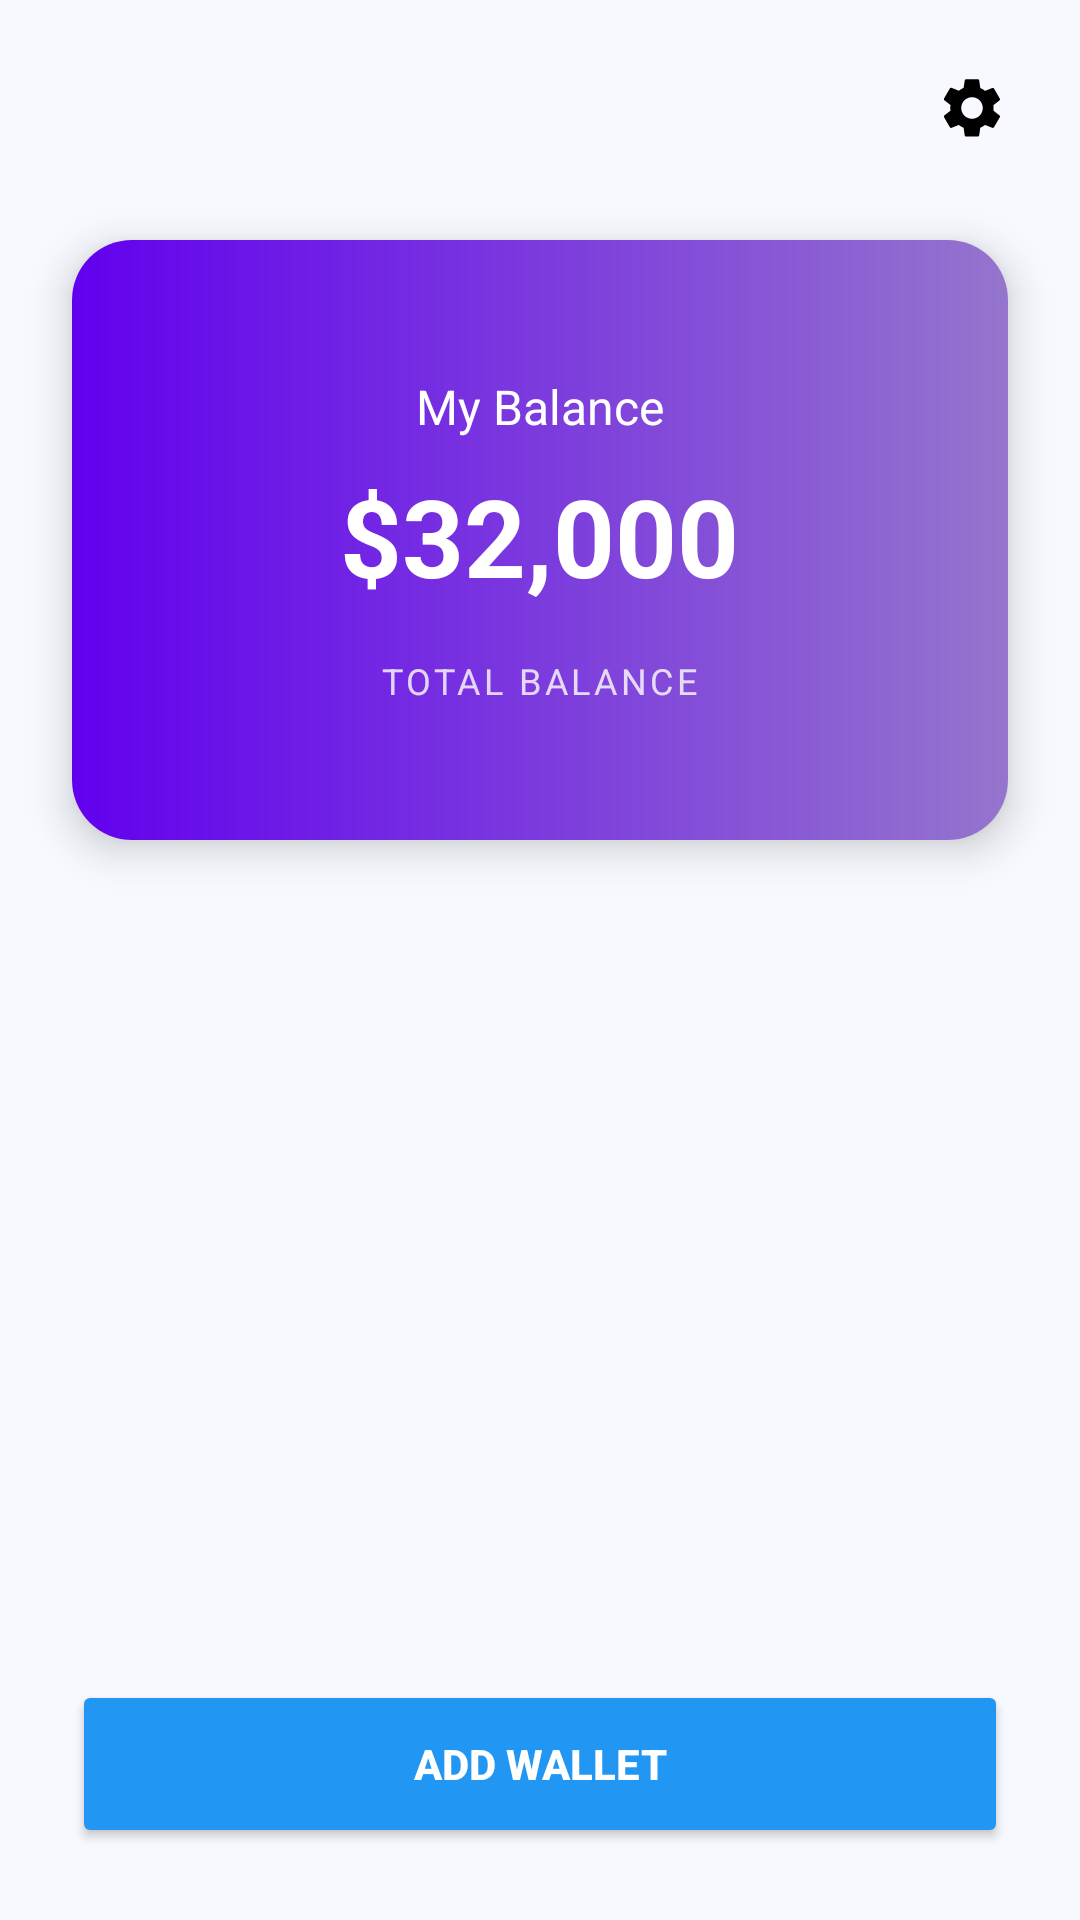

Icon click points for this 1080w x 1920h phone screenshot, format [x,y]:
settings: [972,108]
